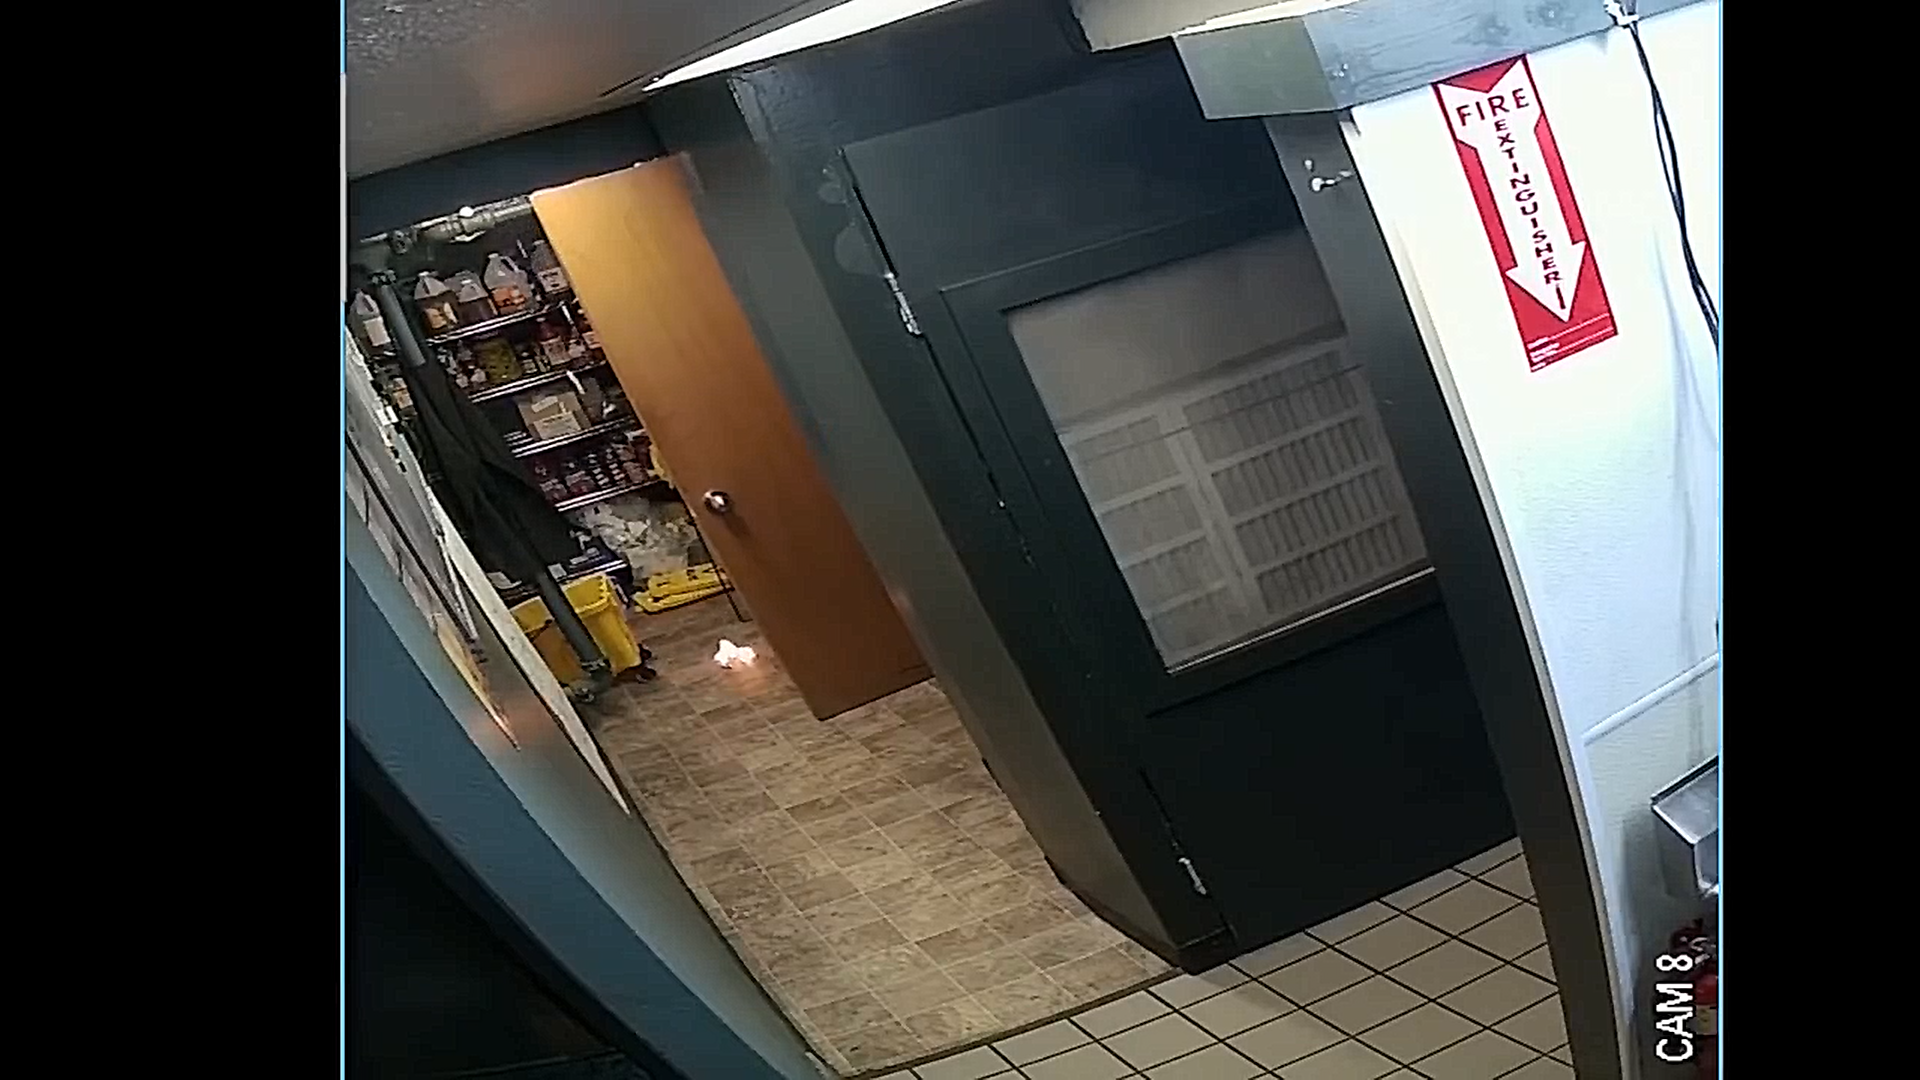fire: (705, 632, 766, 676)
